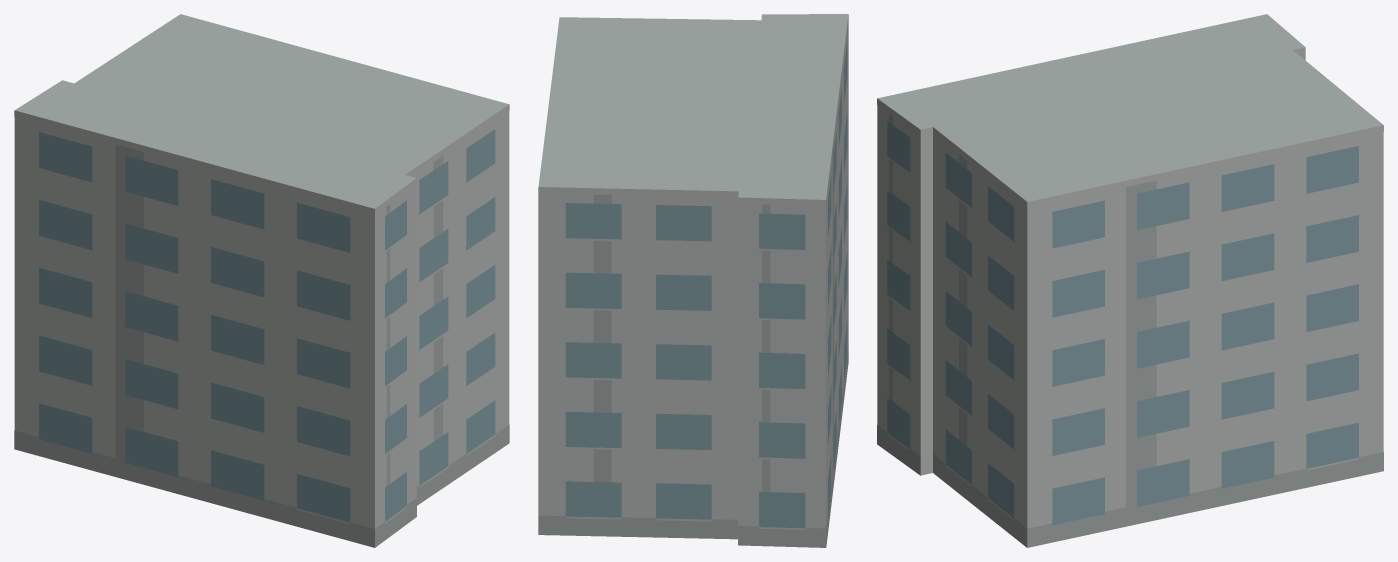
File: survey-upis-32885995.glb
The picture shows the model from 3 angles, left to right: view 1: azimuth 30°, elevation 25°; view 2: azimuth 150°, elevation 25°; view 3: azimuth 270°, elevation 25°; orthographic projection. The views are drawn at different scales.
Visible parts, largest first — view 1: survey-upis-32885995.tmp; view 2: survey-upis-32885995.tmp; view 3: survey-upis-32885995.tmp.
Part boxes in pixels (x1=…): survey-upis-32885995.tmp: x1=14, y1=14, x2=509, y2=547; survey-upis-32885995.tmp: x1=538, y1=14, x2=848, y2=547; survey-upis-32885995.tmp: x1=877, y1=14, x2=1383, y2=547.
Size of the model in its own units: 15.44 by 13.25 by 17.6.
